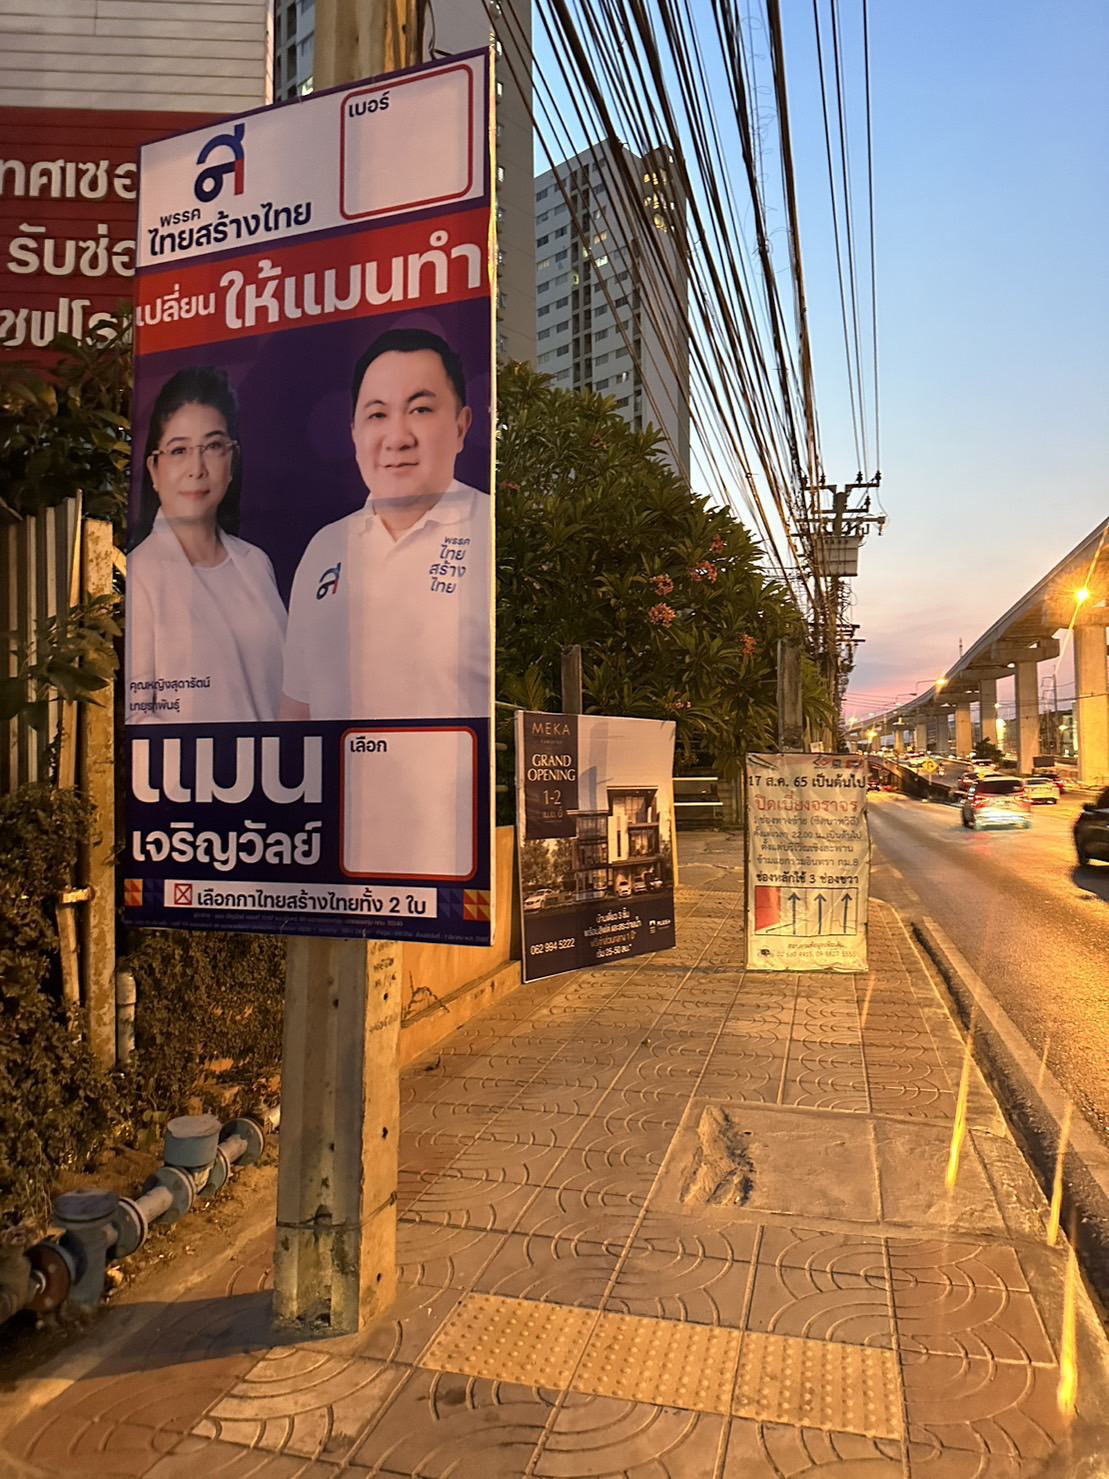Banner: (103, 93, 513, 956)
